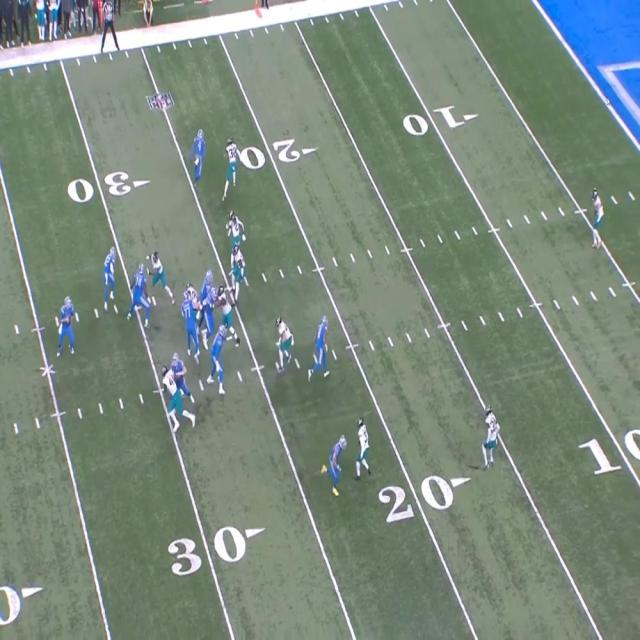db: (483, 408, 501, 464), (226, 138, 241, 185), (591, 189, 603, 247), (356, 422, 370, 470), (228, 212, 246, 247), (194, 128, 207, 176)
lb: (276, 315, 294, 370), (234, 246, 244, 302)
qb: (60, 300, 76, 358)
skill: (329, 437, 346, 495), (104, 247, 118, 302), (316, 314, 328, 378)
